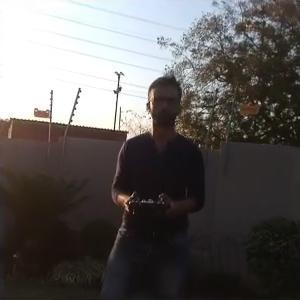follow: (97, 68, 208, 298)
